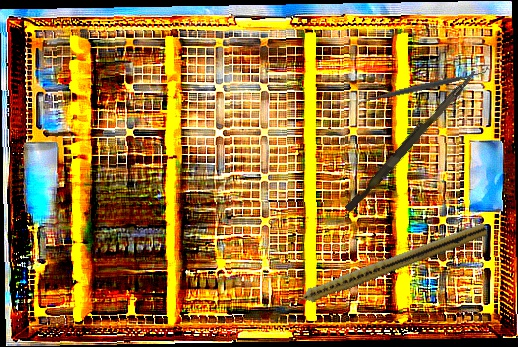Handpiece: (278, 218, 488, 314)
Pusher: (344, 65, 478, 216)
Spatula Surgical: (356, 64, 491, 109)
